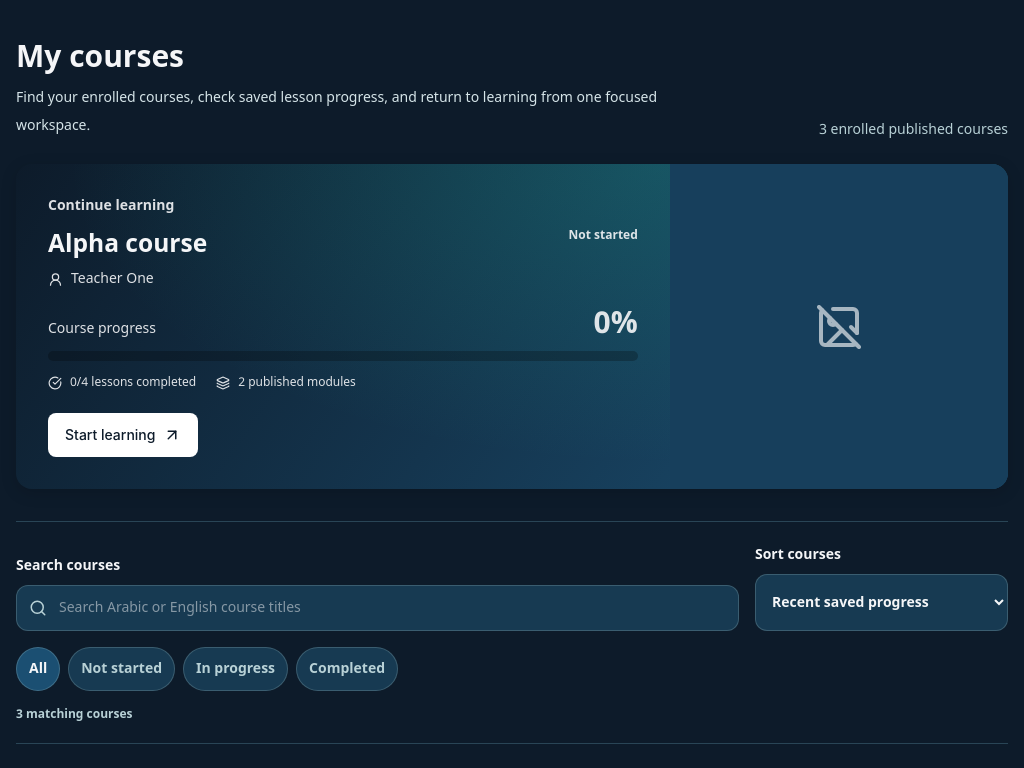
Test: StudentCoursesLearningHub › searches Arabic titles from the English interface
expect the heading "Alpha course" is shown: met, box [48,228,207,261]
Type "بيتا" into the search field labelled "Search courses" at x=390, y=608, box [55,586,726,630]
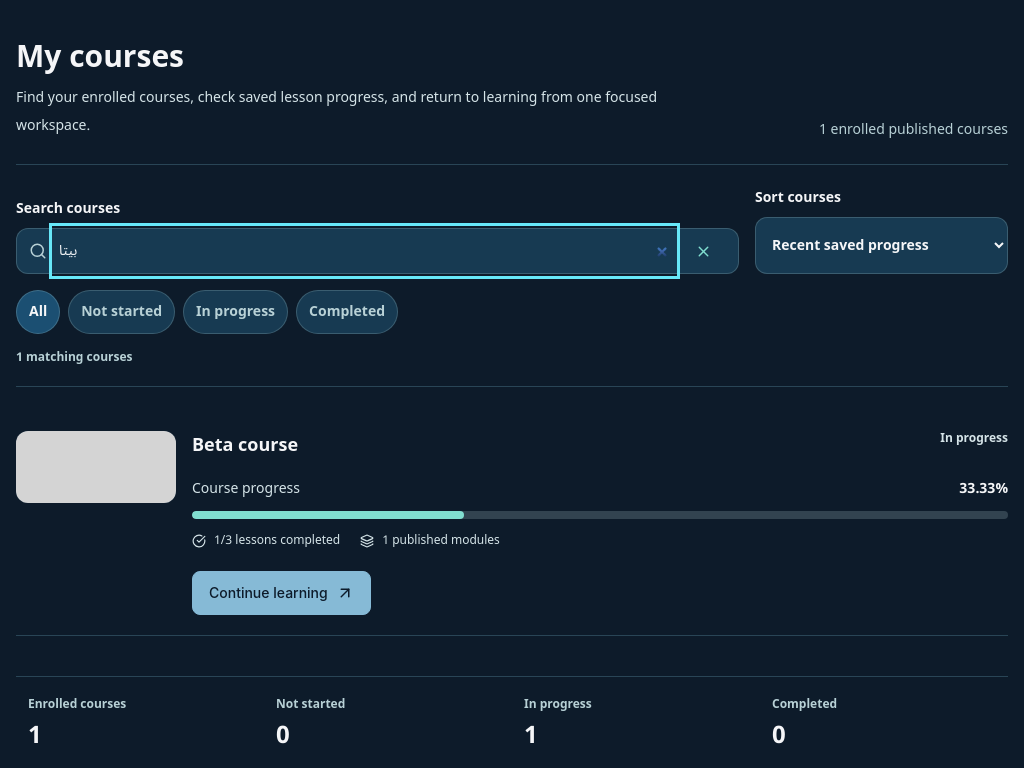
expect the heading "Beta course" is shown: met, box [192,431,298,459]
expect the heading "Alpha course" is gone: met
